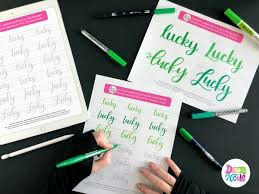pen: (182, 127, 226, 172), (1, 131, 75, 157), (80, 30, 128, 65), (56, 145, 114, 171), (224, 7, 259, 45), (96, 5, 178, 16), (191, 106, 247, 117)
